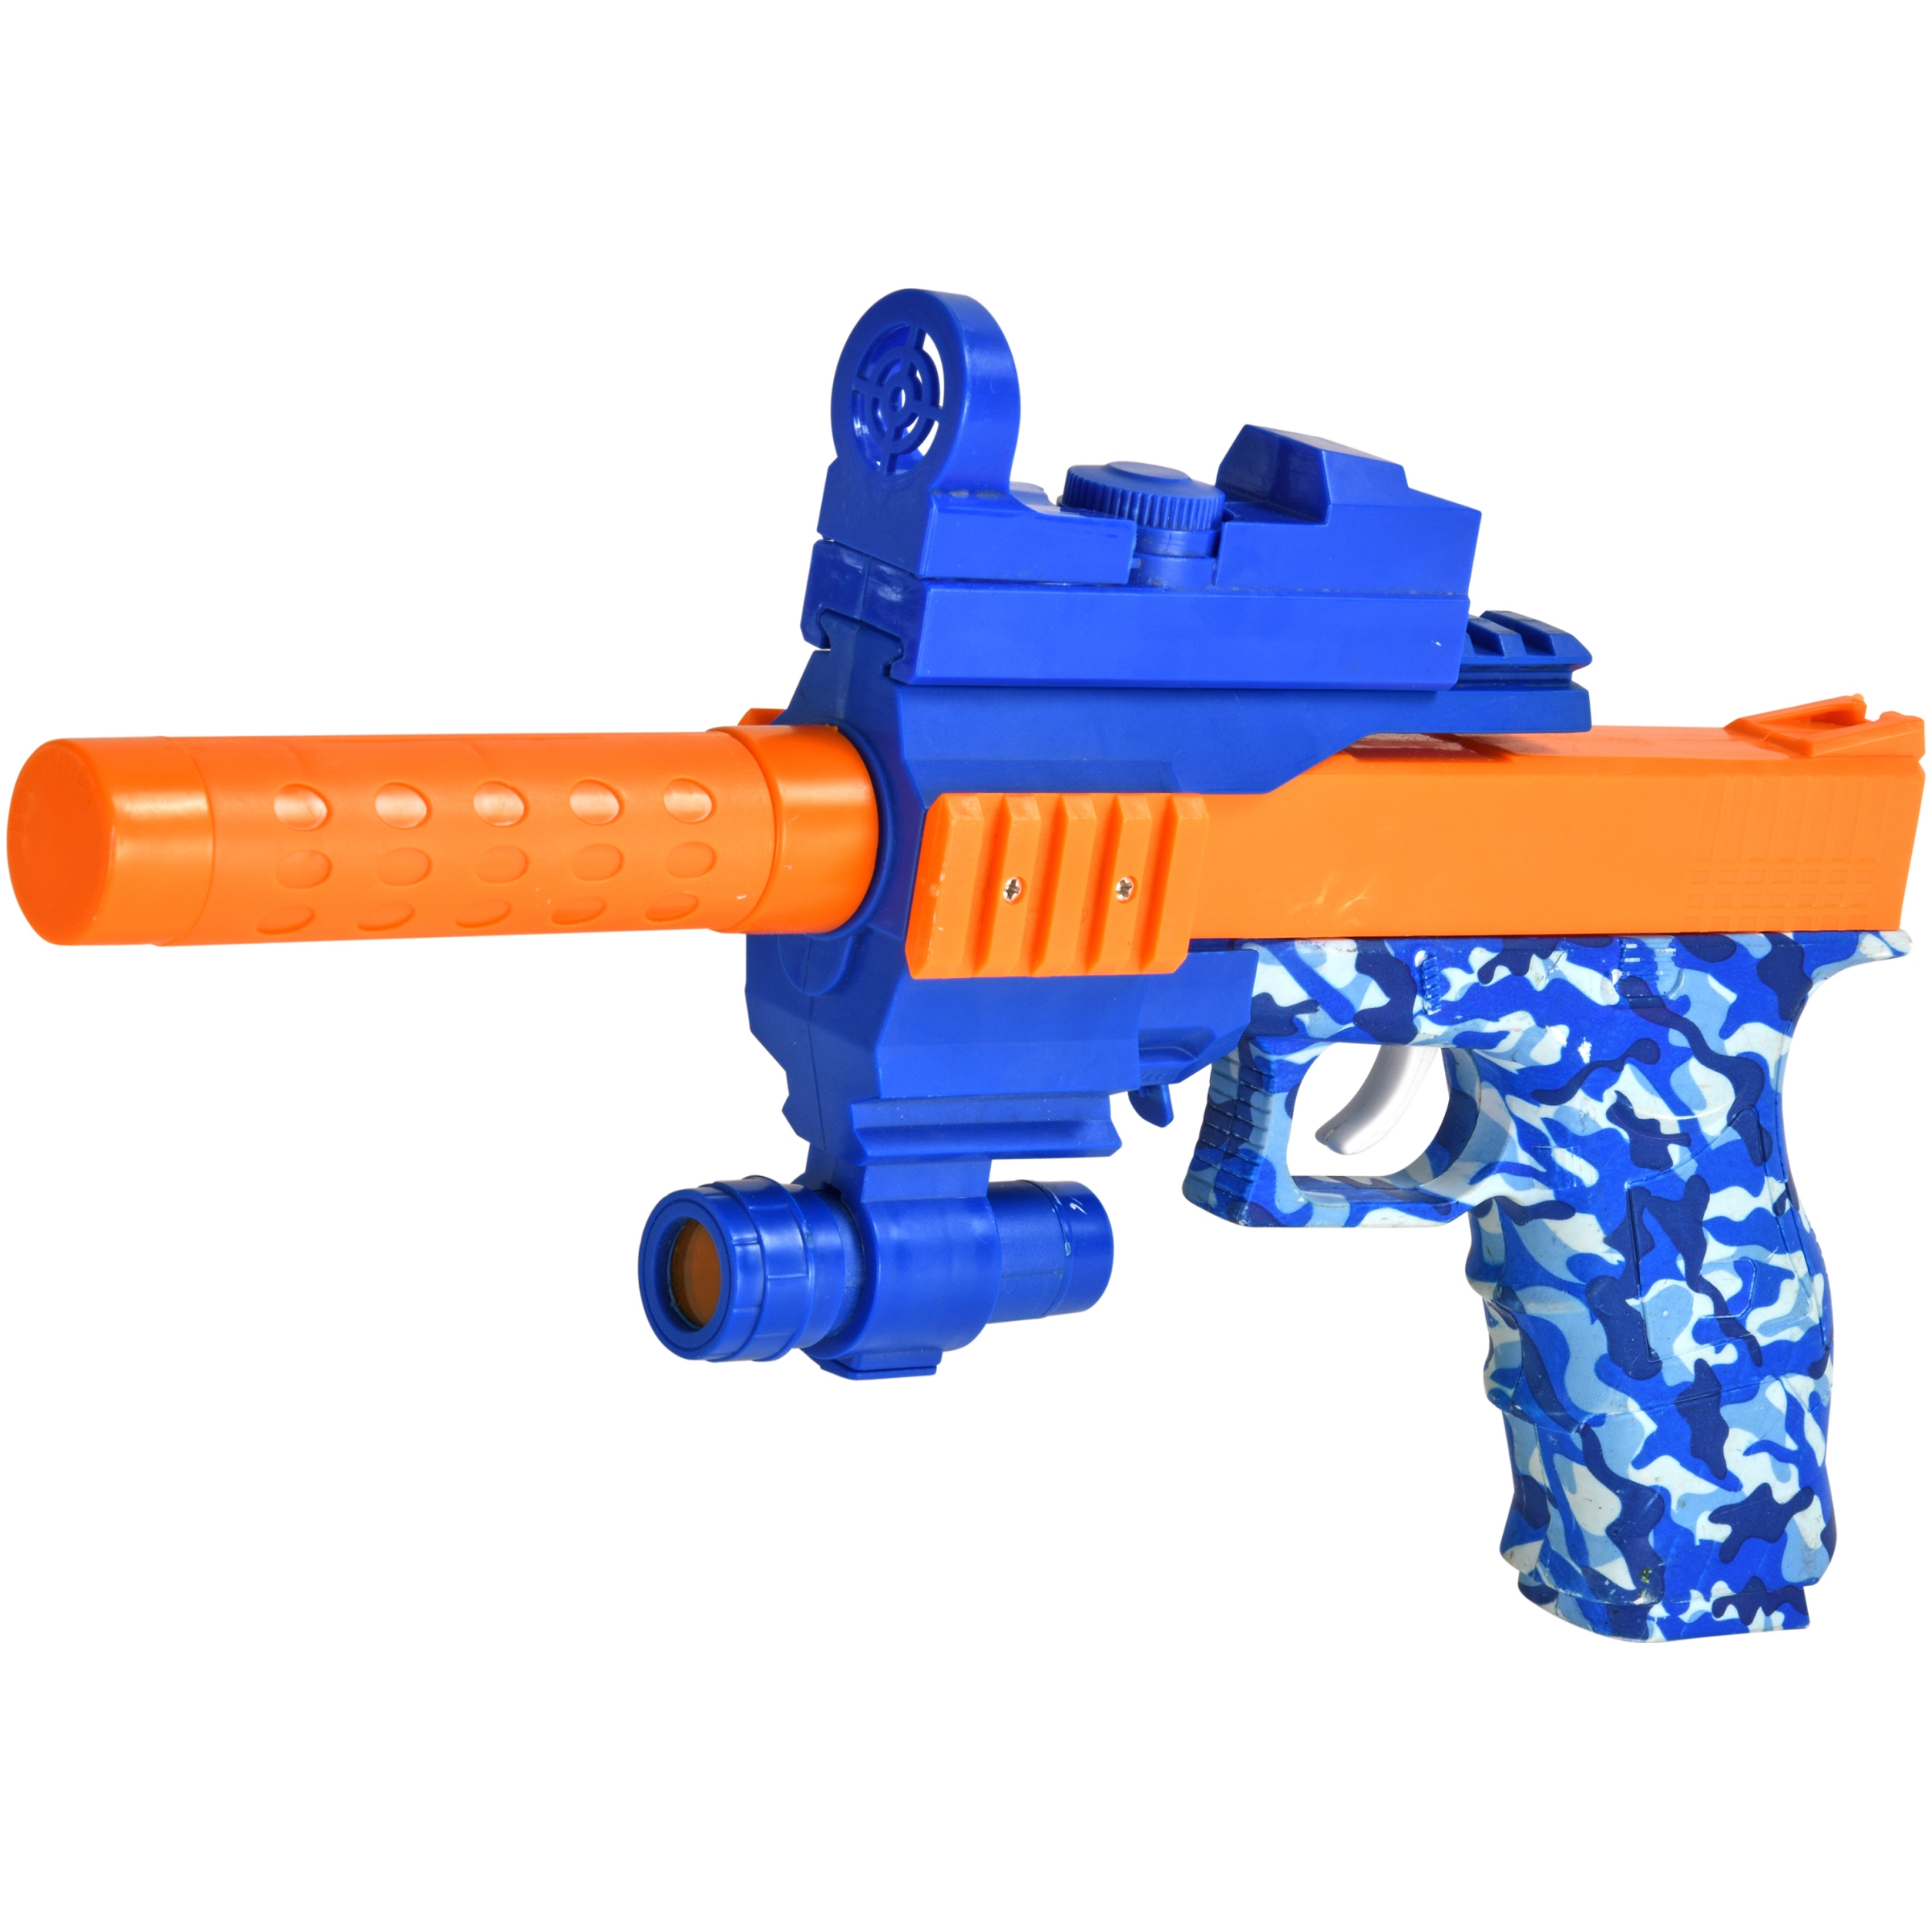Arma Falsa: (7, 283, 1930, 1640)
